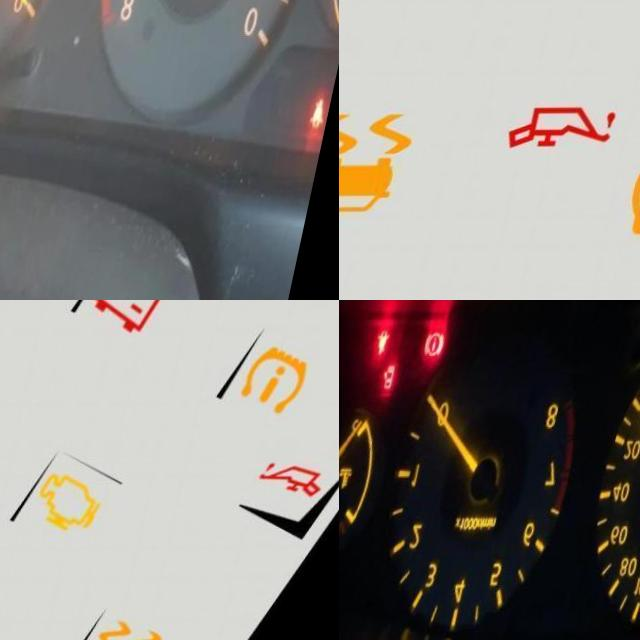Seat Belt: (381, 329, 399, 356), (327, 97, 339, 131)
